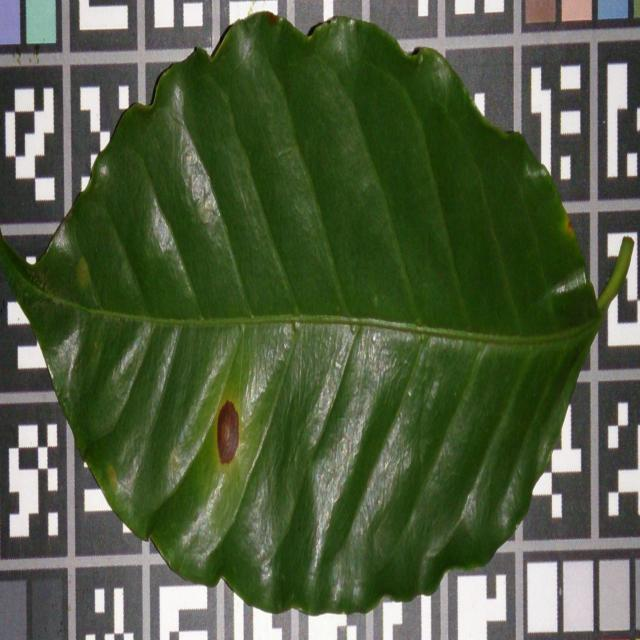Enfermedad-Mancha-de-hierro: (0, 13, 619, 619)
